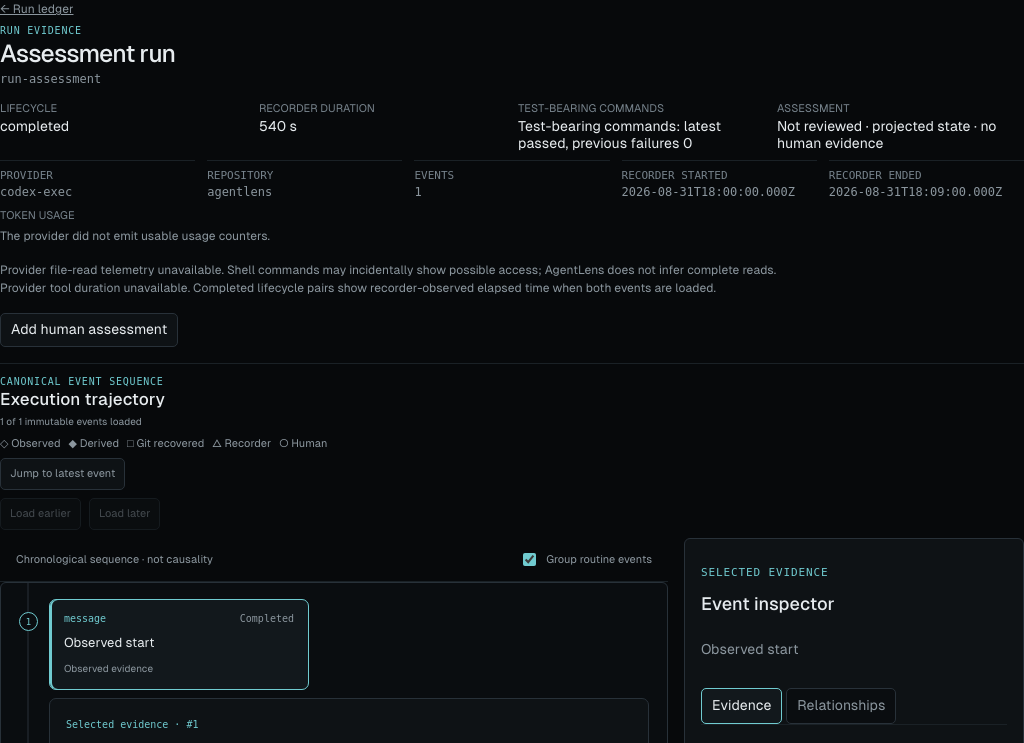
Test: conditional assessment transport and mutation ownership › loads and selects the real current human event when Review latest assessment accepts a conflict
Check: the 1st text "Observed start" is shown, box [64, 634, 154, 650]
Click the button "Add human assessment" at coordinates (89, 330), box [0, 312, 178, 346]
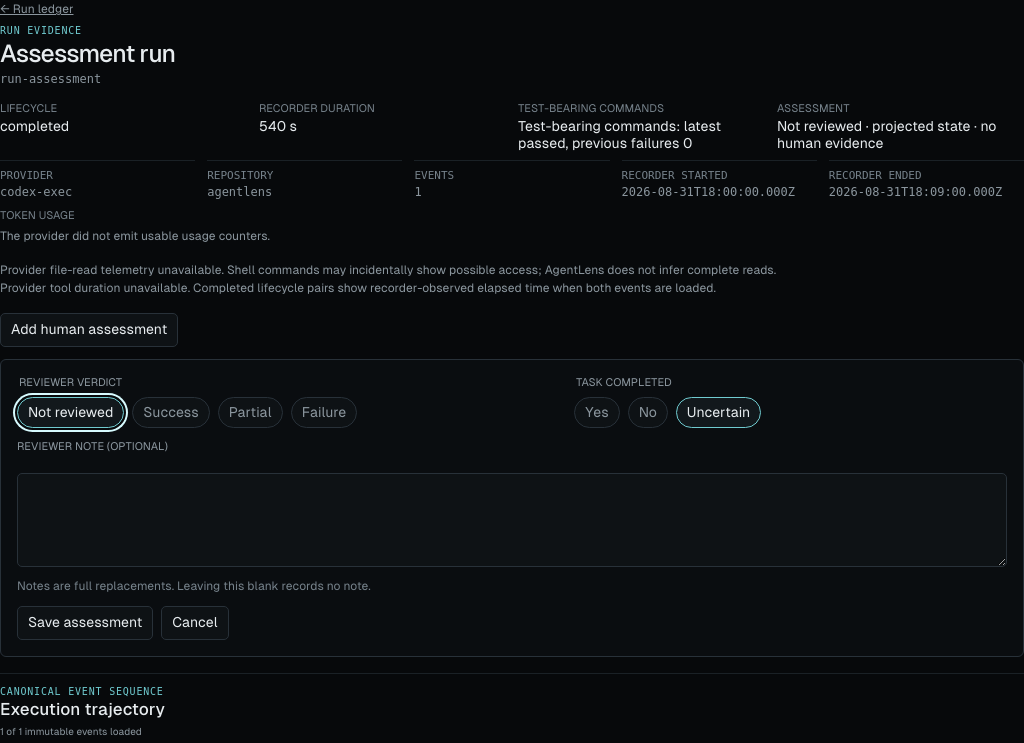
Click the radio button labelled "Partial" at coordinates (250, 412), box [218, 396, 283, 428]
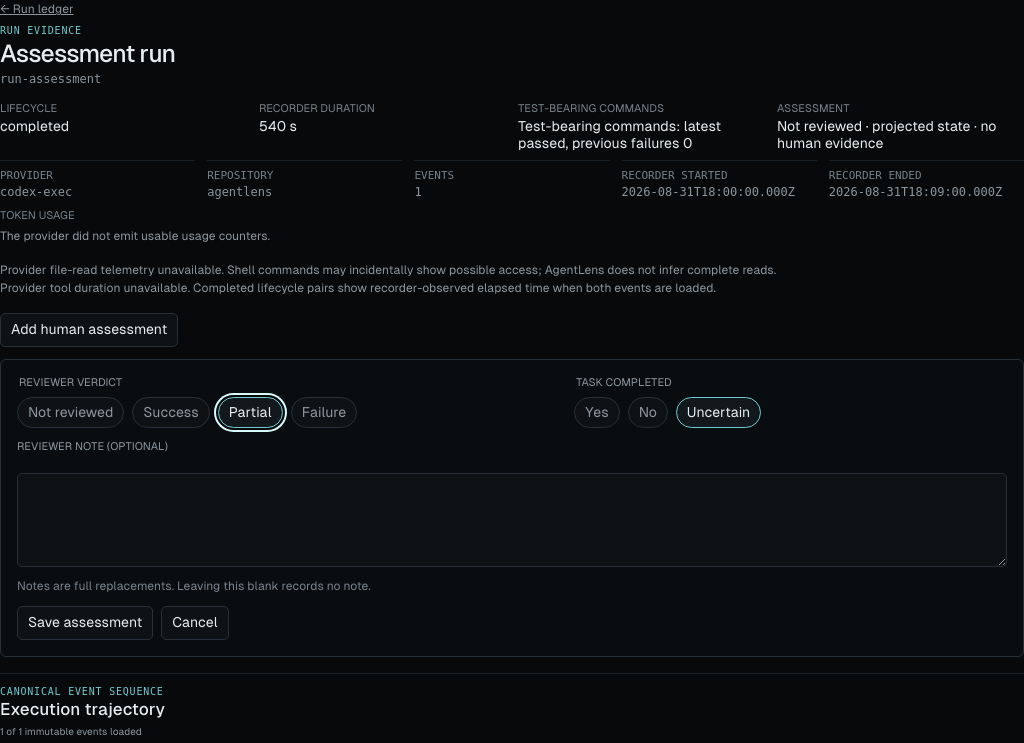
Type "Keep this browser draft" into the text box labelled "Reviewer note (optional)" at coordinates (512, 520), box [17, 472, 1007, 566]
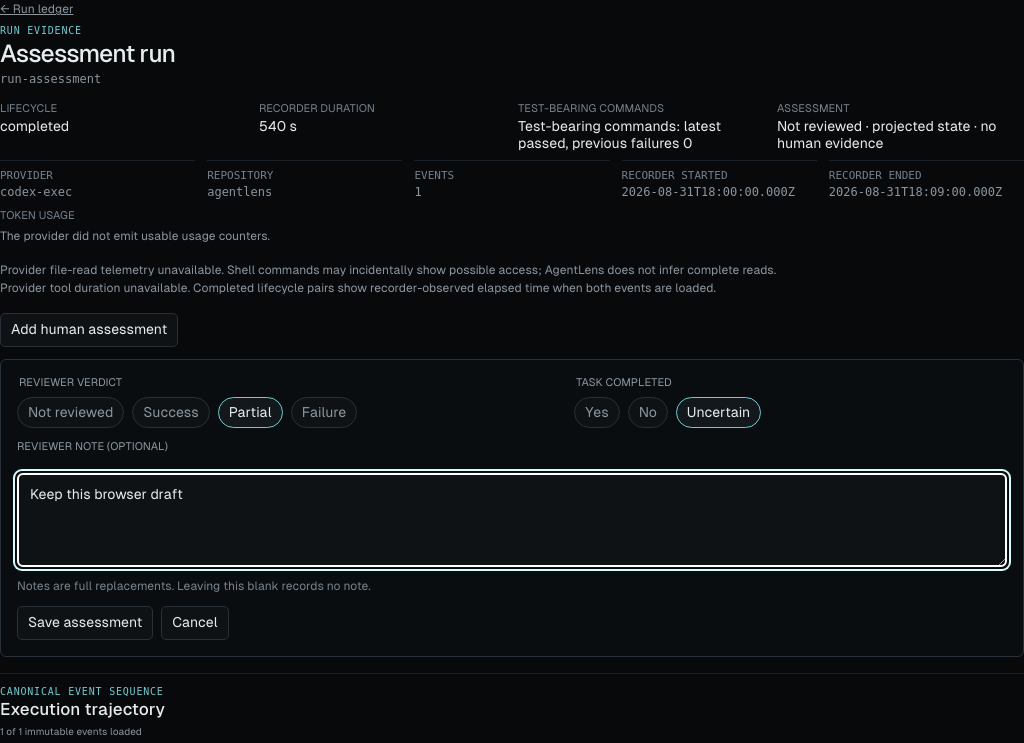
Click the button "Save assessment" at coordinates (85, 622), box [17, 606, 153, 640]
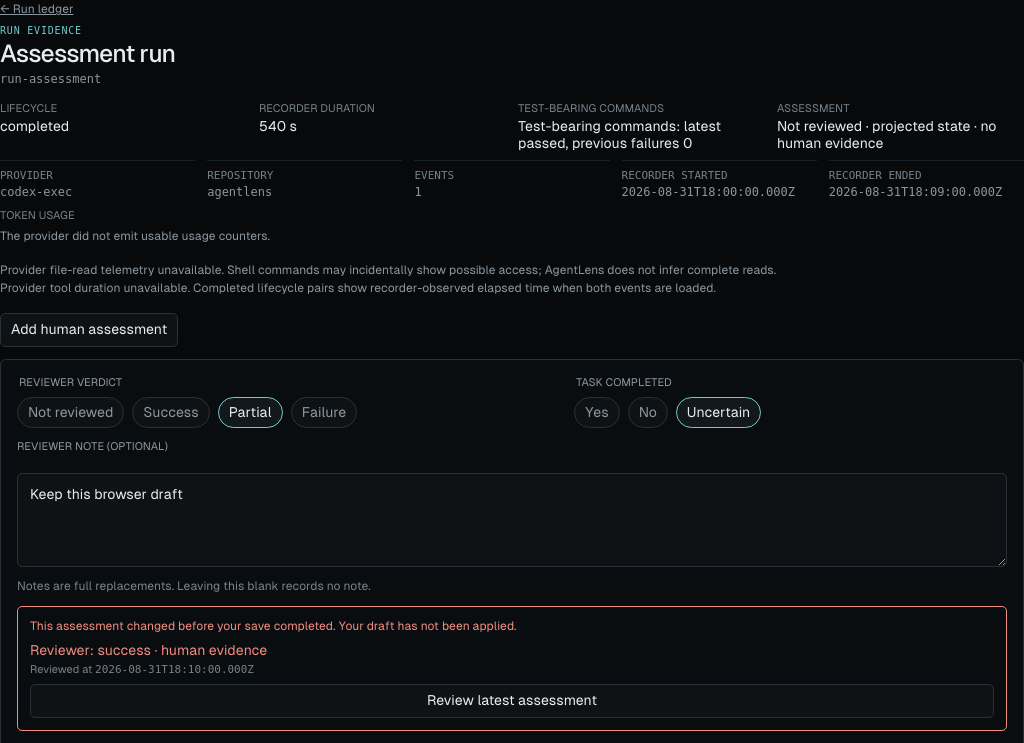
Check: the button "Review latest assessment" is shown
Click the button "Review latest assessment" at coordinates (512, 700), box [30, 684, 994, 718]
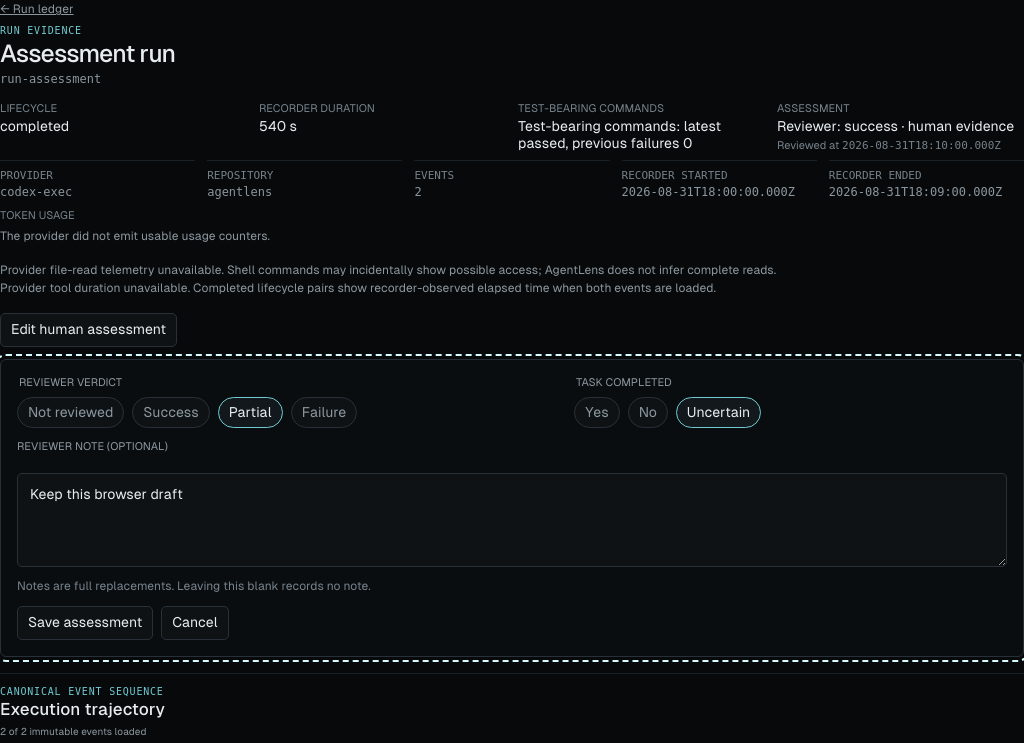
Check: the text "Reviewer: success · human evidence" is shown, box [777, 118, 1023, 135]
Check: the text "2 of 2 immutable events loaded" is shown, box [0, 726, 146, 736]
Check: the text "2" is shown, box [414, 185, 422, 199]
